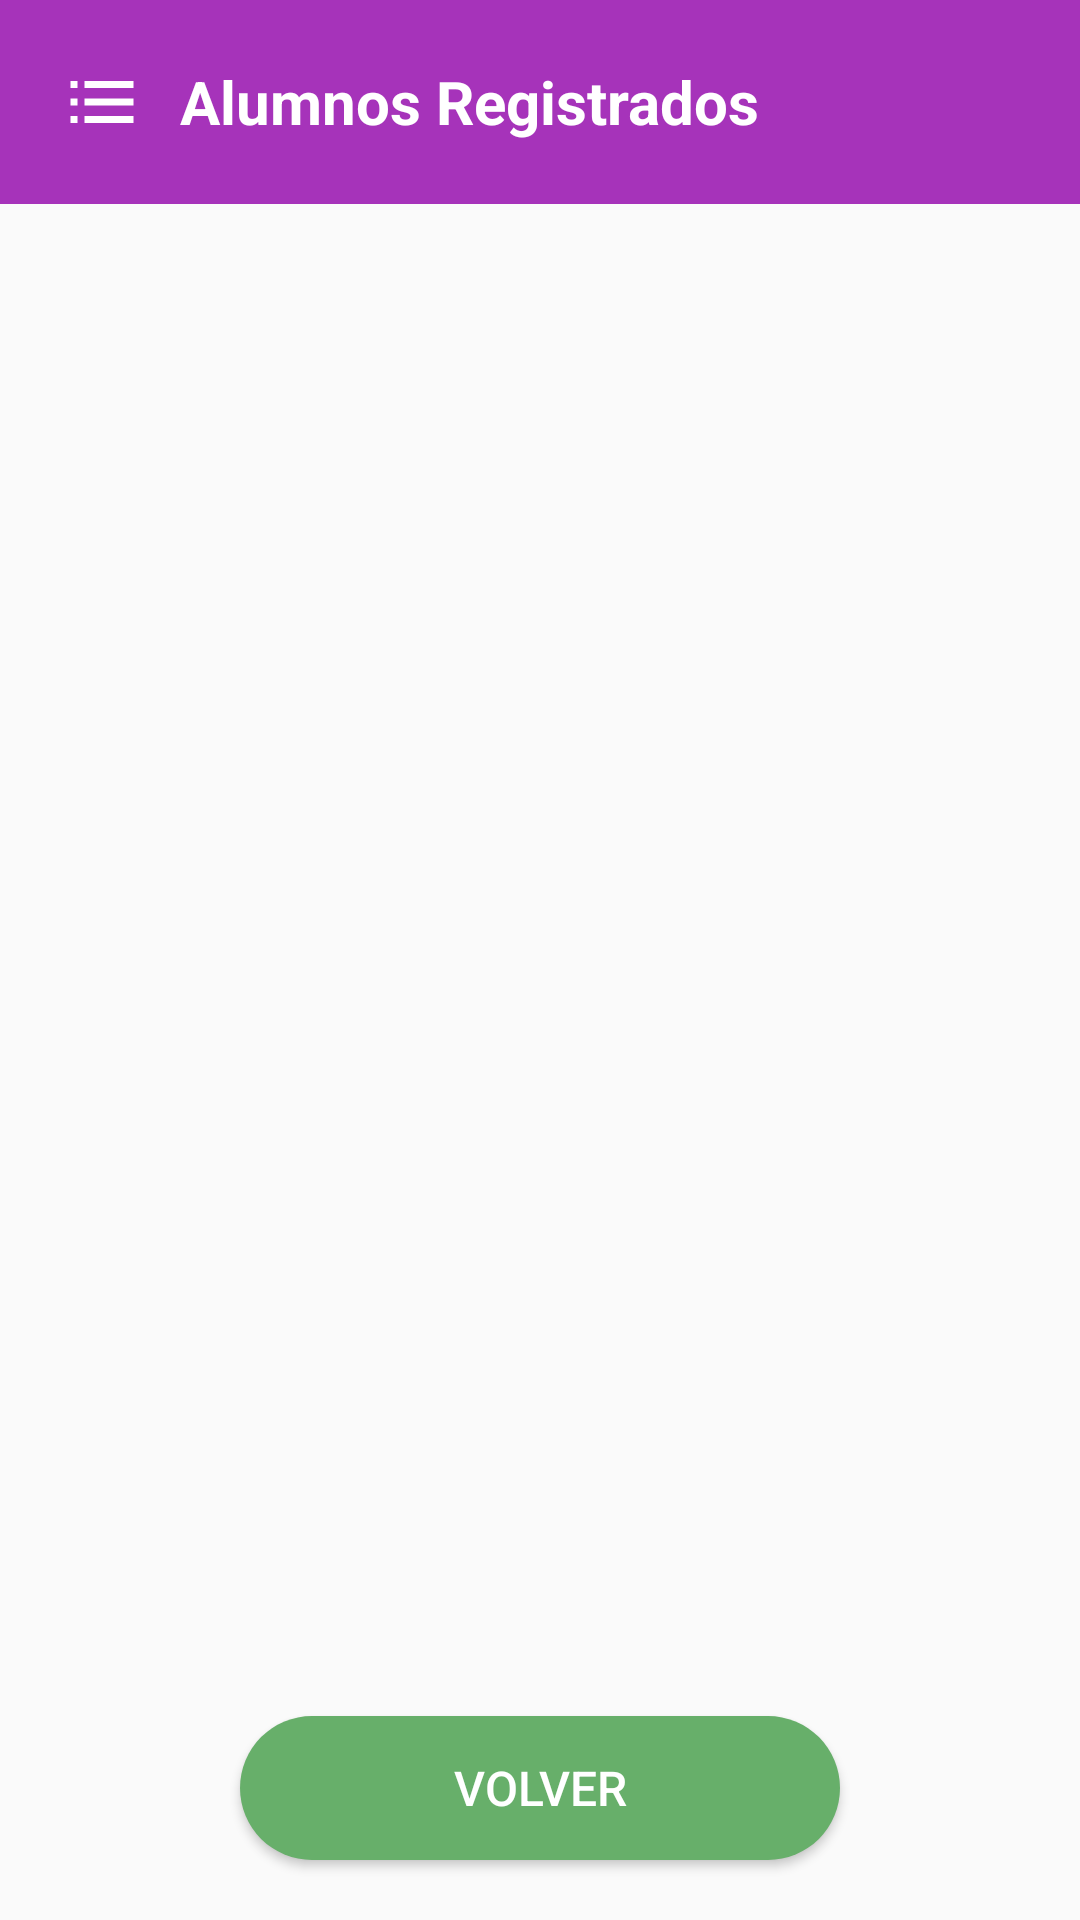

Locate icon controls on the screen. Image size 1080w x 1920h, boxes as box(x1, y1, x2, y2).
list: box(70, 81, 134, 123)
